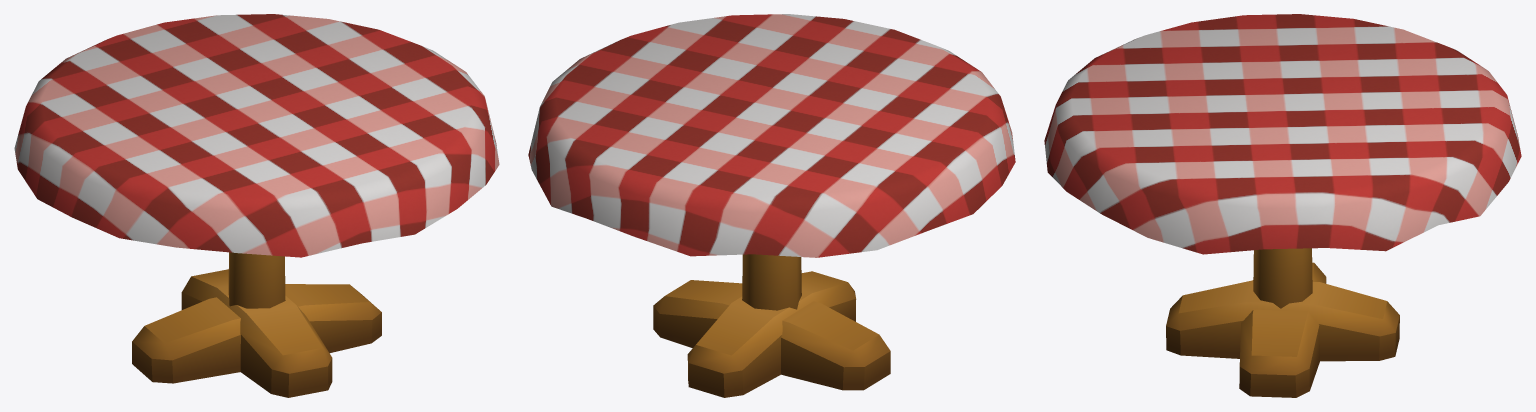
File: Table_2_B.glb
The picture shows the model from 3 angles, left to right: view 1: azimuth 30°, elevation 25°; view 2: azimuth 150°, elevation 25°; view 3: azimuth 270°, elevation 25°; orthographic projection. The views are drawn at different scales.
Parts seen in each view (by area): view 1: Table_2_B; view 2: Table_2_B; view 3: Table_2_B.
Part boxes in pixels (box(x1,y1,x2,y2)): Table_2_B: box(14, 14, 499, 397); Table_2_B: box(528, 14, 1015, 397); Table_2_B: box(1044, 14, 1521, 397).
Bounding box in the file's own units: 1.44 × 0.8 × 1.44.
Materials: 2 (2 with a texture image).
